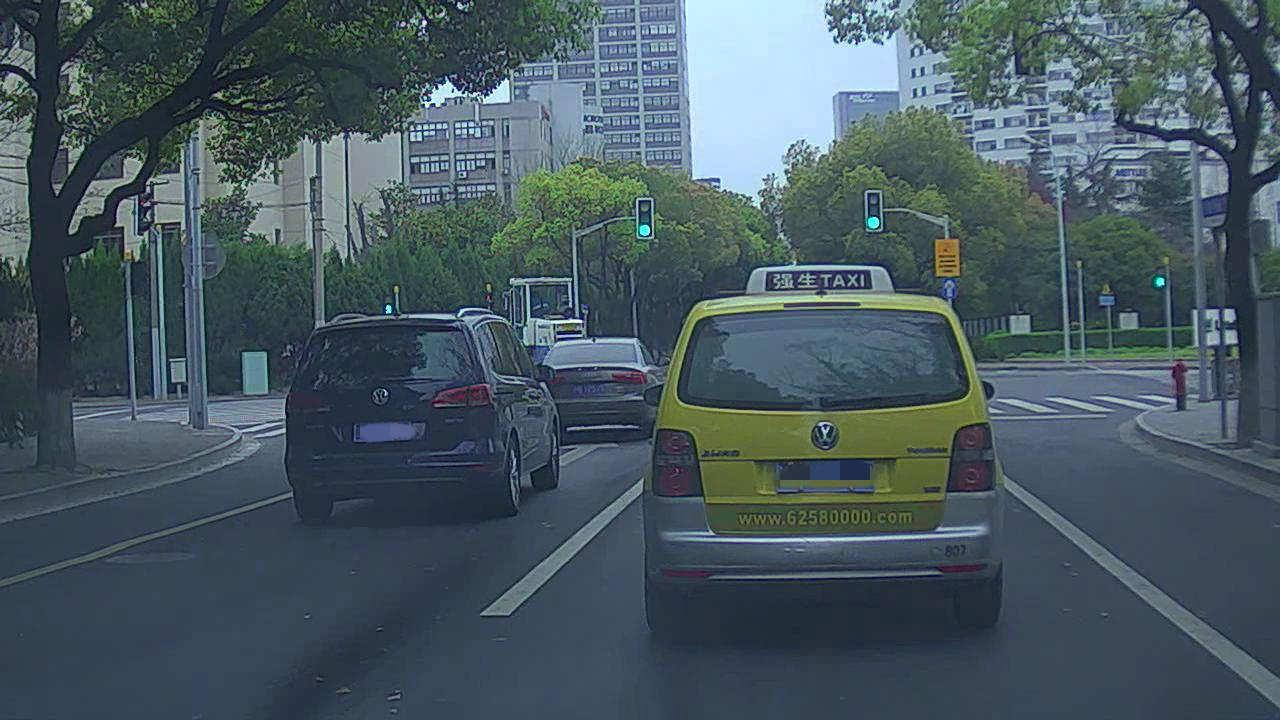traffic_light: (635, 199, 658, 240), (865, 189, 884, 231)
